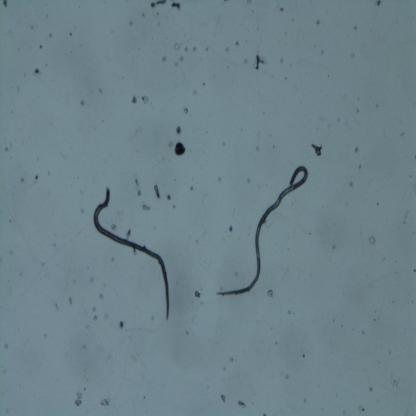Background material: (172, 139, 186, 157), (72, 389, 84, 409), (253, 53, 267, 70), (311, 143, 323, 158), (152, 184, 162, 201), (151, 0, 168, 10), (132, 176, 141, 194), (99, 396, 112, 408), (140, 92, 150, 106), (31, 65, 42, 77), (236, 399, 246, 410), (172, 41, 182, 52), (367, 235, 377, 246), (402, 207, 408, 224), (193, 289, 202, 300), (170, 2, 182, 10), (141, 204, 151, 213), (116, 320, 126, 329), (353, 144, 360, 156), (392, 378, 400, 388), (182, 104, 189, 115), (219, 392, 226, 403), (126, 227, 132, 239), (131, 96, 139, 105), (68, 295, 74, 306), (176, 125, 182, 136), (266, 290, 274, 298), (127, 18, 134, 27), (2, 0, 9, 8), (111, 222, 117, 231), (34, 172, 40, 181), (191, 88, 197, 97), (53, 300, 58, 310), (221, 362, 226, 372), (83, 323, 90, 330), (80, 99, 86, 107), (368, 384, 374, 392), (358, 405, 364, 413), (314, 18, 320, 26), (166, 193, 172, 201), (224, 44, 230, 52), (91, 304, 97, 312), (19, 176, 25, 184), (204, 46, 210, 53), (3, 342, 9, 349), (97, 87, 103, 94), (350, 52, 356, 59), (109, 255, 115, 262), (301, 396, 307, 403), (42, 332, 47, 340), (99, 292, 104, 300), (93, 314, 98, 322), (103, 312, 108, 320), (179, 55, 184, 63), (376, 0, 382, 6), (286, 309, 292, 315), (354, 107, 360, 113), (243, 57, 248, 64), (235, 40, 240, 47), (150, 315, 155, 322), (349, 180, 354, 187), (162, 56, 167, 63), (361, 328, 366, 335), (48, 32, 53, 39), (90, 276, 94, 284), (256, 133, 260, 141), (174, 62, 179, 68), (279, 7, 284, 13), (184, 329, 189, 335), (68, 31, 74, 36), (327, 122, 332, 128), (374, 103, 379, 109), (155, 10, 160, 16), (191, 46, 196, 52), (255, 145, 260, 151), (280, 57, 284, 64), (172, 203, 176, 210), (247, 0, 252, 5), (285, 373, 290, 378), (320, 49, 324, 55), (400, 131, 404, 137), (83, 344, 87, 350), (332, 244, 336, 250), (381, 257, 385, 263), (412, 268, 416, 274), (229, 356, 233, 362), (184, 46, 188, 52), (283, 74, 287, 80), (247, 177, 250, 184), (356, 97, 360, 102), (140, 12, 144, 17), (234, 272, 238, 277), (38, 43, 42, 48), (388, 350, 392, 355), (302, 353, 306, 358), (202, 81, 206, 86), (337, 116, 340, 122), (359, 163, 362, 169), (81, 208, 84, 214), (391, 298, 394, 304), (4, 146, 8, 150), (142, 395, 146, 399), (372, 318, 376, 322), (274, 341, 278, 345), (332, 318, 336, 322), (376, 201, 380, 205), (46, 14, 50, 18), (354, 25, 357, 30), (31, 25, 34, 30), (190, 186, 193, 190), (292, 18, 295, 22), (272, 145, 275, 149), (223, 0, 228, 2), (46, 62, 48, 67), (414, 155, 416, 160), (263, 413, 266, 416), (341, 324, 343, 328), (410, 174, 412, 178), (314, 44, 316, 48), (84, 387, 86, 391), (327, 75, 330, 77)
Fragment: (228, 224, 234, 233)
